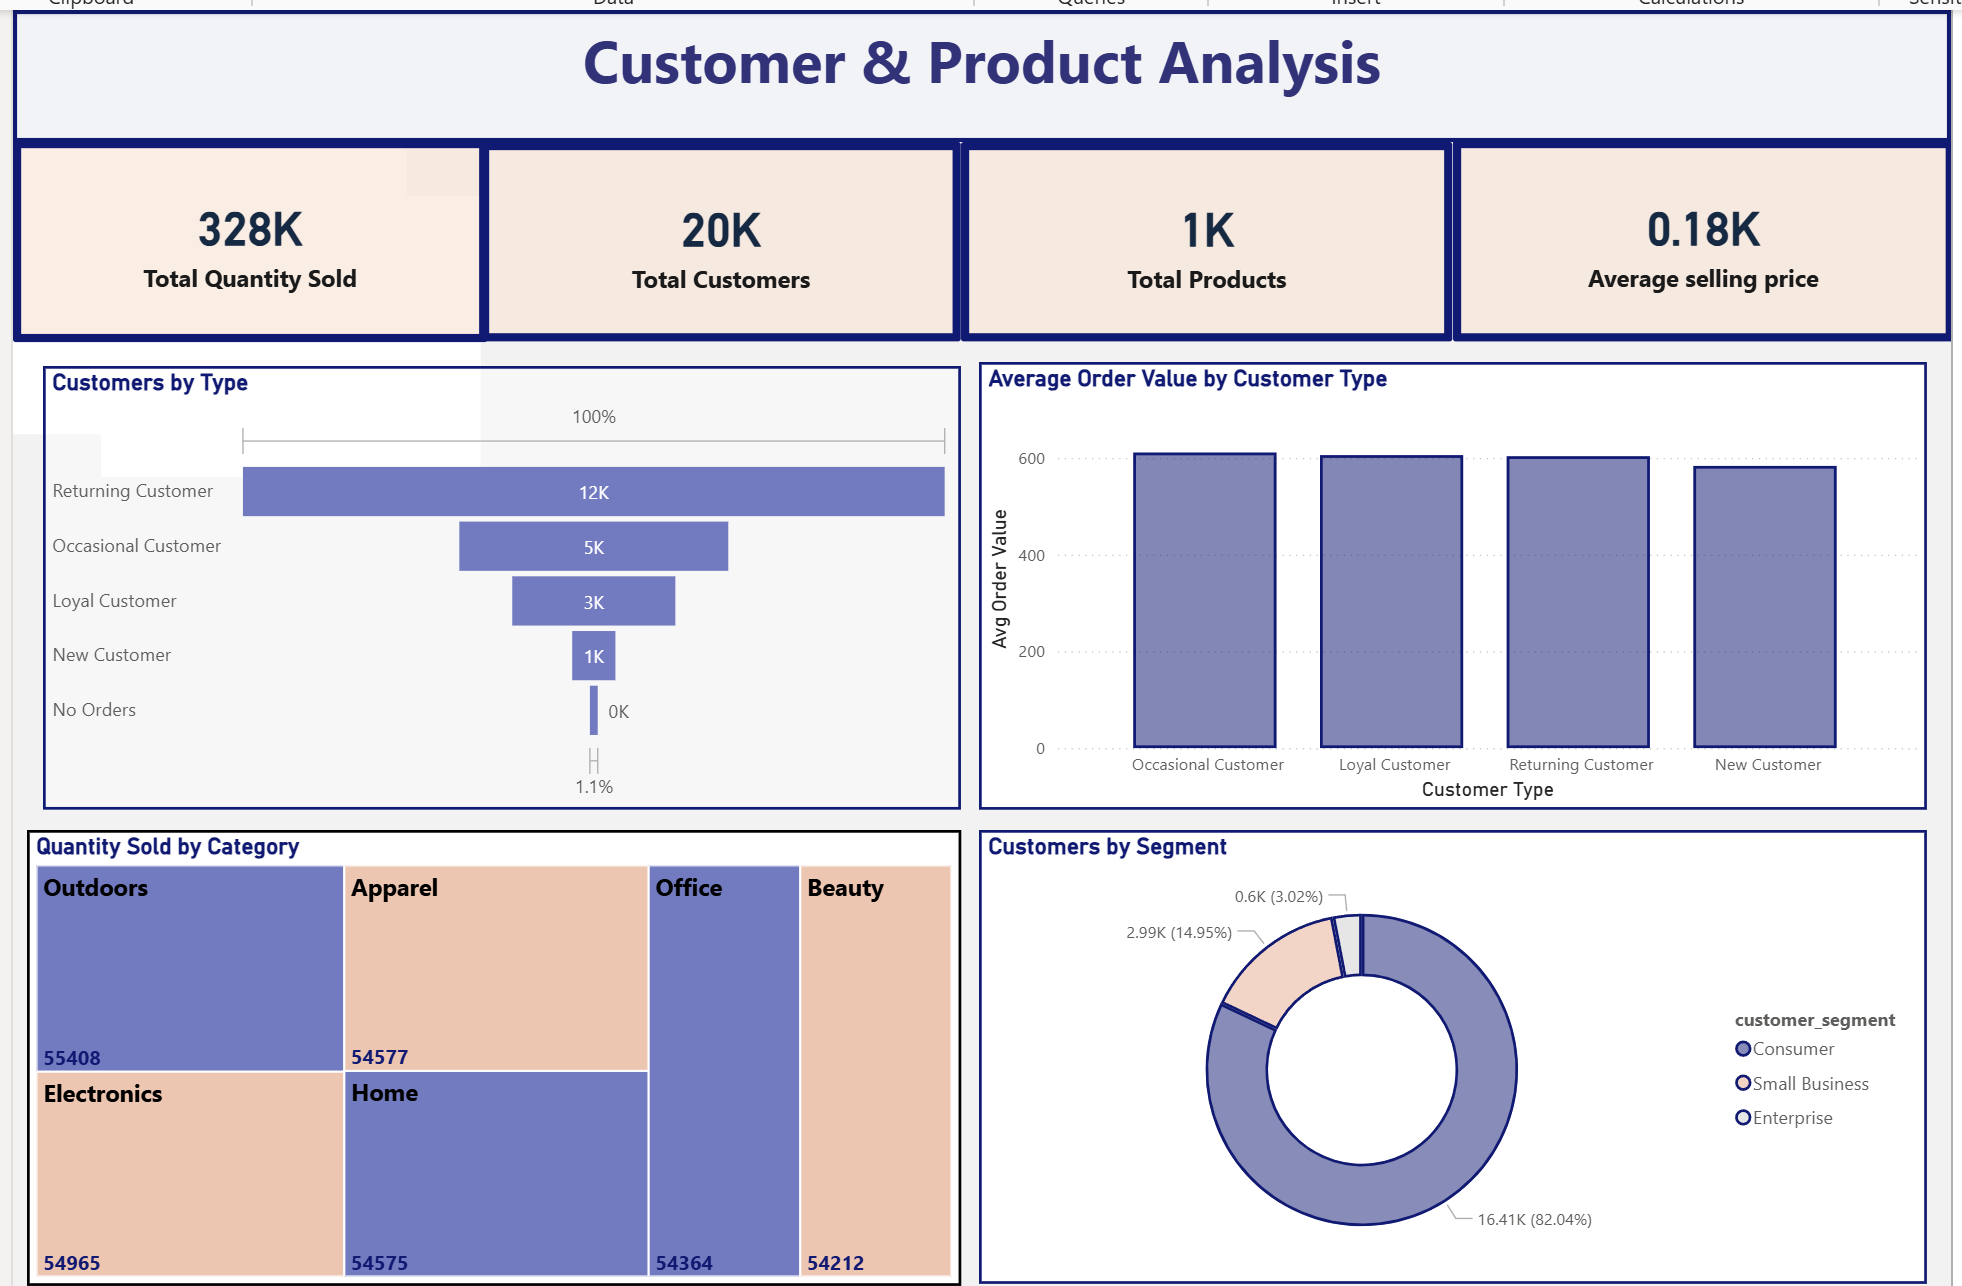

The page's visual inventory and layout, read from the dashboard file:
{"tool":"powerbi","page":{"name":"Customer & Product Analysis","canvas":[1424,955],"ordinal":1},"visuals":[{"type":"card","fields":{"Values":["customers.Total Customers"]},"box":[65,136.4,279.2,206.5],"z":0},{"type":"card","fields":{"Values":["products.Total Products"]},"box":[0,67.4,214.4,130.1],"z":1000},{"type":"card","fields":{"Values":["order_items.Total Quantity Sold"]},"box":[0,82.7,278.7,229.7],"z":2000},{"type":"donutChart","title":"Customers by Segment","fields":{"Category":["customers.customer_segment"],"Y":["CountNonNull(customers.customer_id)"]},"box":[709.8,602.5,696.6,333.6],"z":3000},{"type":"textbox","box":[10,0,279,275],"z":4000},{"type":"textbox","box":[0,0,1424,97.1],"z":5000},{"type":"card","fields":{"Values":["customers.Total Customers"]},"box":[344.1,97.1,352.6,146.5],"z":6000},{"type":"card","fields":{"Values":["products.Total Products"]},"box":[696.7,97.1,361.1,146.5],"z":7000},{"type":"card","fields":{"Values":["order_items.Total Quantity Sold"]},"box":[0,95.5,348.3,148.4],"z":8000},{"type":"card","fields":{"Values":["order_items.Average selling price"]},"box":[1057.8,95.4,367.9,148.2],"z":9000},{"type":"funnel","title":"Customers by Type","fields":{"Category":["customers.Customer Type"],"Y":["customers.Total Customers"]},"box":[22,261.6,674.5,326.2],"z":10000},{"type":"treemap","title":"Quantity Sold by Category","fields":{"Group":["products.category"],"Values":["order_items.Total Quantity Sold"]},"box":[10.3,602.5,686.3,335.1],"z":11000},{"type":"clusteredColumnChart","title":"Average Order Value by Customer Type","fields":{"Category":["customers.Customer Type"],"Y":["orders.Avg Order Value"]},"box":[709.8,258.6,696.6,329.2],"z":12000}]}

Visuals, with their boxes in screenshot pixels (x1, y1, x2, y2):
card - customers.Total Customers: pyautogui.locateOnScreen(90, 193, 474, 478)
card - products.Total Products: pyautogui.locateOnScreen(0, 98, 296, 277)
card - order_items.Total Quantity Sold: pyautogui.locateOnScreen(0, 119, 384, 436)
"Customers by Segment" donutChart: pyautogui.locateOnScreen(978, 836, 1939, 1285)
textbox: pyautogui.locateOnScreen(14, 5, 398, 384)
textbox: pyautogui.locateOnScreen(0, 5, 1961, 139)
card - customers.Total Customers: pyautogui.locateOnScreen(474, 139, 960, 341)
card - products.Total Products: pyautogui.locateOnScreen(960, 139, 1458, 341)
card - order_items.Total Quantity Sold: pyautogui.locateOnScreen(0, 137, 480, 341)
card - order_items.Average selling price: pyautogui.locateOnScreen(1458, 137, 1961, 341)
"Customers by Type" funnel: pyautogui.locateOnScreen(30, 366, 960, 815)
"Quantity Sold by Category" treemap: pyautogui.locateOnScreen(14, 836, 960, 1285)
"Average Order Value by Customer Type" clusteredColumnChart: pyautogui.locateOnScreen(978, 362, 1939, 815)
